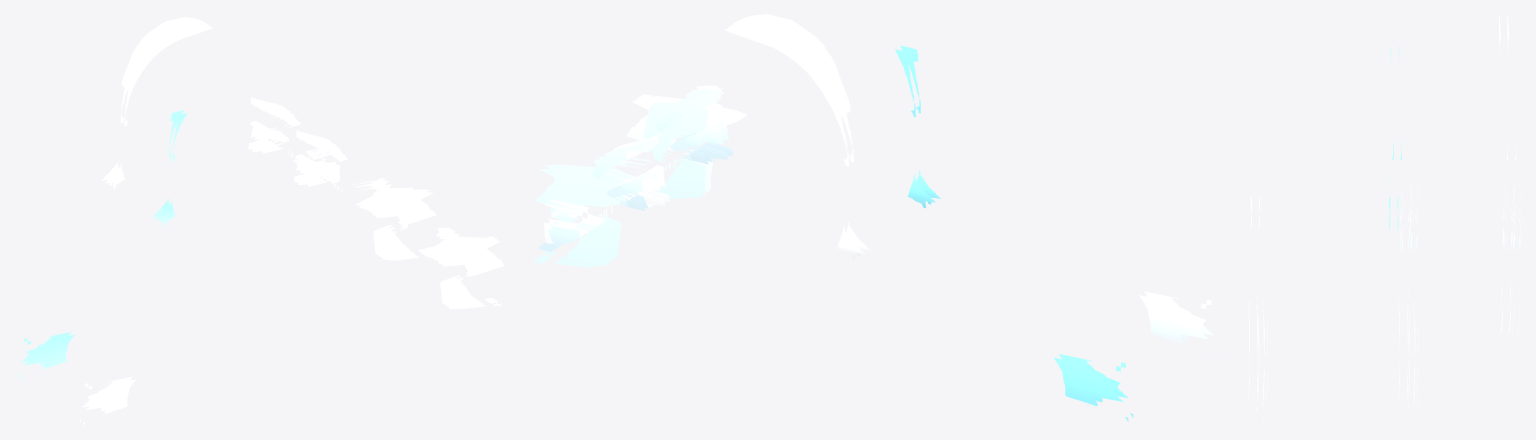
File: yuna_semantic_layer_v9_hair_art_directed_v1_balanced.glb
3 views of the same model, side by side, from view 1: azimuth 30°, elevation 25°; view 2: azimuth 150°, elevation 25°; view 3: azimuth 270°, elevation 25° (orthographic). The views are drawn at different scales.
Parts seen in each view (by area): view 1: back_hair_mass_01, side_hair_right_primary_01, bangs_primary_01, back_hair_mass_02, side_hair_left_primary_01, bangs_primary_03, side_hair_right_primary_02, side_hair_right_primary_03, bangs_primary_04; view 2: bangs_primary_01, back_hair_mass_02, side_hair_left_primary_01, secondary_strands_01, flyaway_strands_01, secondary_strands_02, back_hair_mass_01, flyaway_strands_02, side_hair_right_primary_01, secondary_strands_10, secondary_strands_09, secondary_strands_06 (+6 smaller); view 3: no part large enough to name.
Boxes of the visible parts, left/top/right/bottom form: back_hair_mass_01: left=418, top=230, right=504, bottom=308; side_hair_right_primary_01: left=337, top=181, right=436, bottom=260; bangs_primary_01: left=120, top=17, right=212, bottom=126; back_hair_mass_02: left=79, top=376, right=135, bottom=425; side_hair_left_primary_01: left=18, top=332, right=74, bottom=380; bangs_primary_03: left=248, top=115, right=289, bottom=153; side_hair_right_primary_02: left=294, top=148, right=335, bottom=186; side_hair_right_primary_03: left=299, top=132, right=347, bottom=185; bangs_primary_04: left=254, top=99, right=300, bottom=151; bangs_primary_01: left=725, top=14, right=853, bottom=166; back_hair_mass_02: left=1139, top=291, right=1218, bottom=358; side_hair_left_primary_01: left=1054, top=354, right=1133, bottom=421; secondary_strands_01: left=535, top=157, right=669, bottom=266; flyaway_strands_01: left=533, top=159, right=666, bottom=267; secondary_strands_02: left=635, top=89, right=710, bottom=197; back_hair_mass_01: left=626, top=85, right=747, bottom=194; flyaway_strands_02: left=634, top=91, right=706, bottom=198; side_hair_right_primary_01: left=536, top=152, right=675, bottom=261; secondary_strands_10: left=592, top=138, right=655, bottom=206; secondary_strands_09: left=656, top=91, right=719, bottom=159; secondary_strands_06: left=539, top=208, right=606, bottom=252.
Bounding box in the file's own units: 3 × 1.85 × 1.49.
7 materials, 6 textured.
